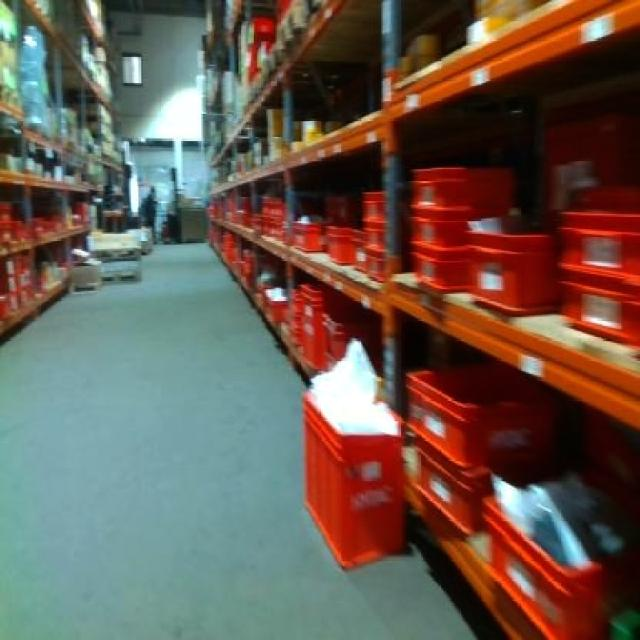pallets: (205, 0, 637, 637), (302, 391, 403, 565), (557, 209, 637, 343), (466, 231, 555, 312)
